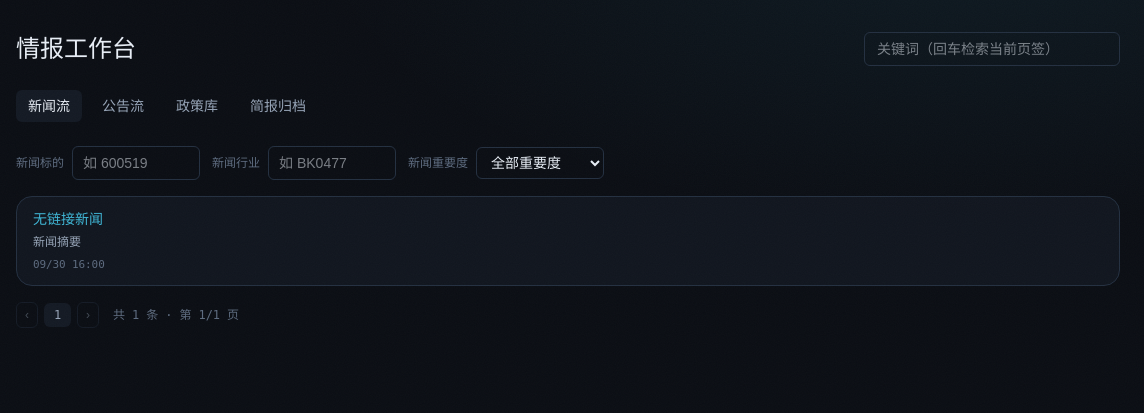
IntelligenceBoard › 可空字段 null 形态：政策 direction/strength null 不渲染方向/力度徽标，新闻 url null 不出链接（终审 I-2）
Click the button with test id "intel-tab-policies" at (197, 106), box [164,90,230,122]
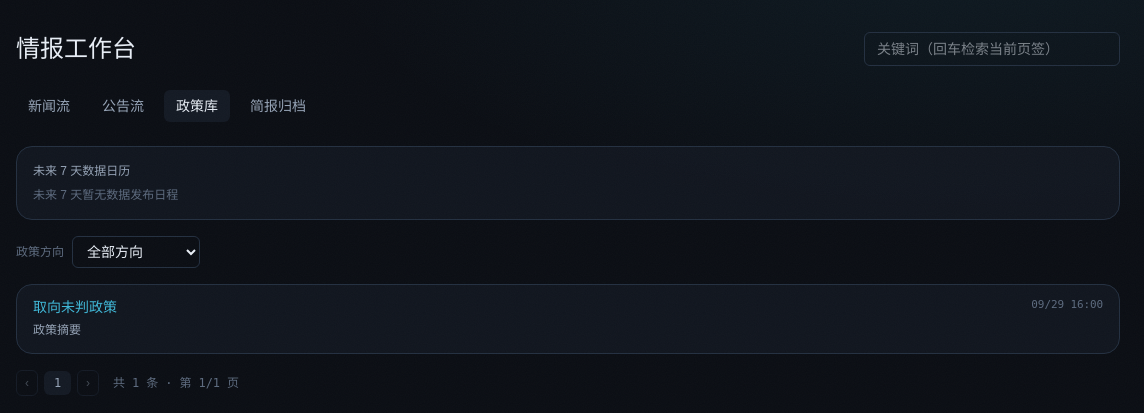
Expected: the link "取向未判政策" is shown, [33,299,117,315]
